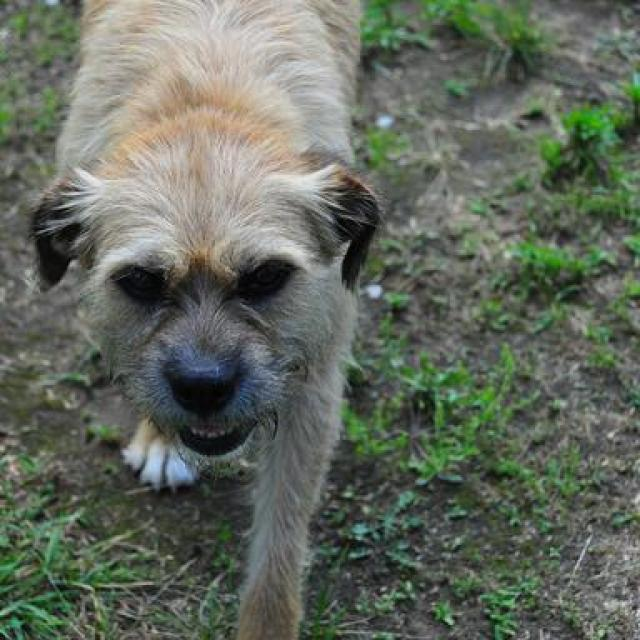angry: (38, 0, 388, 640)
